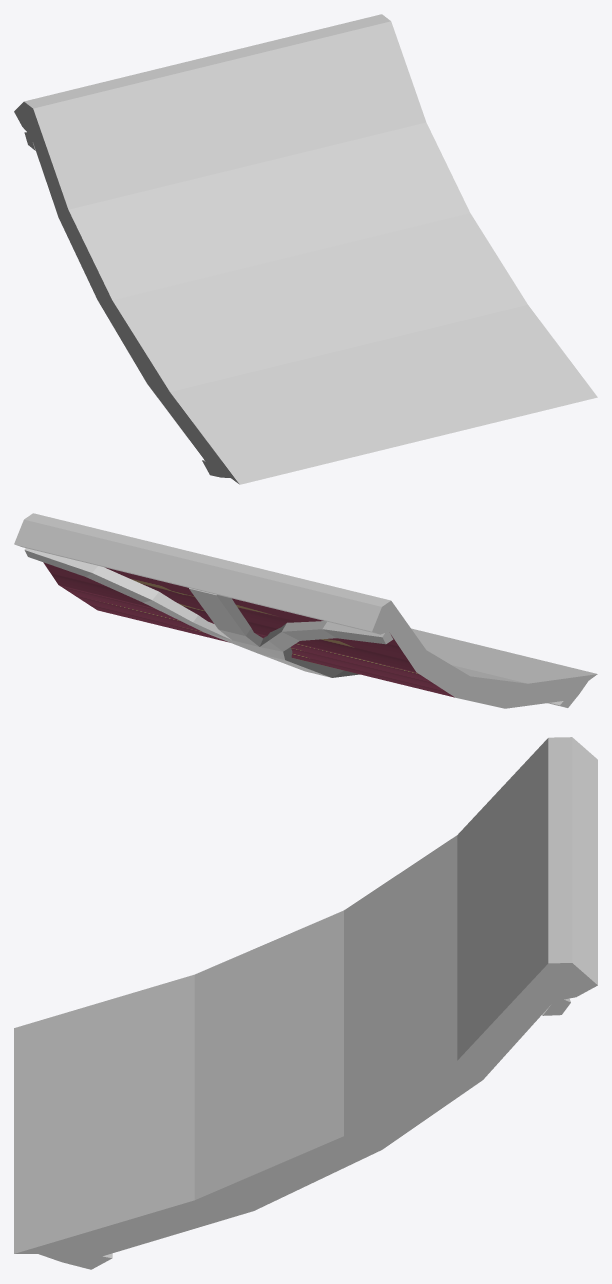
The model's file is SM_Bld_Roof_M_Concave_01.fbx.
3 views of the same model, one above another, from view 1: azimuth 30°, elevation 25°; view 2: azimuth 150°, elevation 25°; view 3: azimuth 270°, elevation 25° (orthographic). The views are drawn at different scales.
Parts seen in each view (by area): view 1: SM_Bld_Roof_M_Concave_01; view 2: SM_Bld_Roof_M_Concave_01; view 3: SM_Bld_Roof_M_Concave_01.
Boxes of the visible parts, <box> form: SM_Bld_Roof_M_Concave_01: <box>14,14,597,484</box>; SM_Bld_Roof_M_Concave_01: <box>14,513,597,708</box>; SM_Bld_Roof_M_Concave_01: <box>14,737,597,1269</box>.
Bounding box in the file's own units: 250 × 158 × 273.
